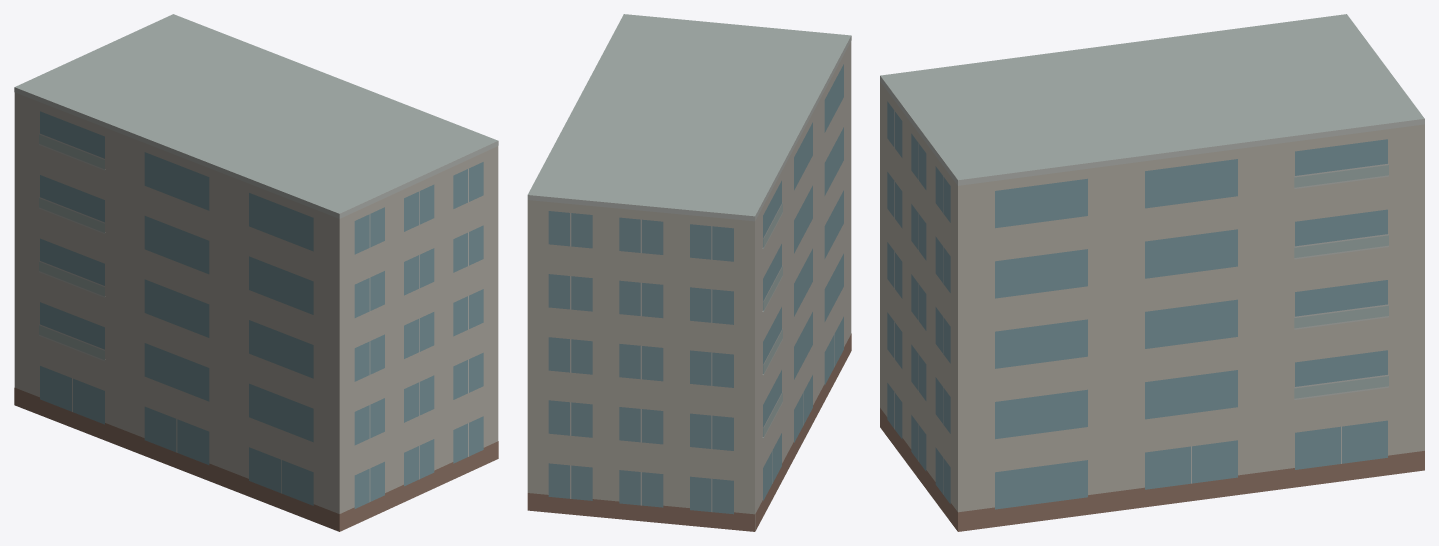
The model's file is survey-upis-32682106.glb.
The picture shows the model from 3 angles, left to right: view 1: azimuth 30°, elevation 25°; view 2: azimuth 150°, elevation 25°; view 3: azimuth 270°, elevation 25°; orthographic projection. The views are drawn at different scales.
Visible parts, largest first — view 1: survey-upis-32682106.tmp; view 2: survey-upis-32682106.tmp; view 3: survey-upis-32682106.tmp.
Boxes of the visible parts, x1,y1,x2,y2 form: survey-upis-32682106.tmp: (14,14,498,531); survey-upis-32682106.tmp: (527,14,851,531); survey-upis-32682106.tmp: (880,14,1424,531).
Bounding box in the file's own units: 15.47 × 15.25 × 21.42.
